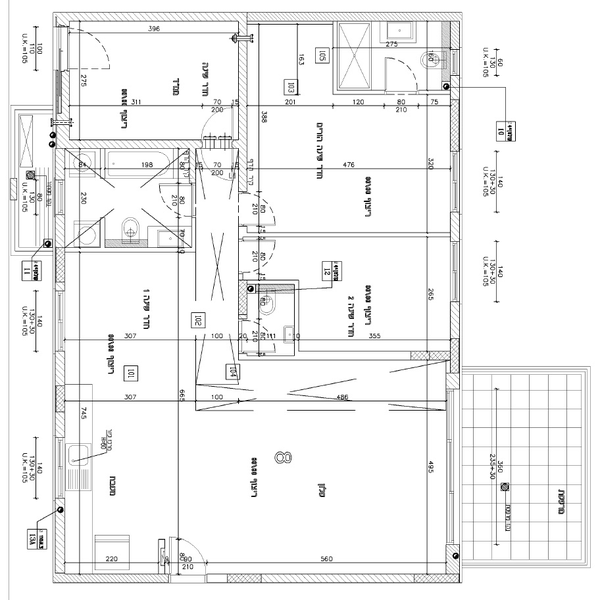door: (57, 30, 120, 71), (233, 236, 288, 278), (384, 52, 425, 101), (234, 187, 280, 227), (156, 180, 196, 219)
room: (237, 13, 463, 235), (57, 8, 248, 156)
wall: (54, 13, 247, 24), (208, 575, 458, 583), (237, 14, 247, 196), (67, 140, 242, 149), (54, 502, 65, 578), (60, 74, 70, 149)
window: (444, 440, 459, 545), (449, 238, 465, 303), (449, 148, 461, 212), (56, 438, 67, 496), (55, 290, 64, 348)
